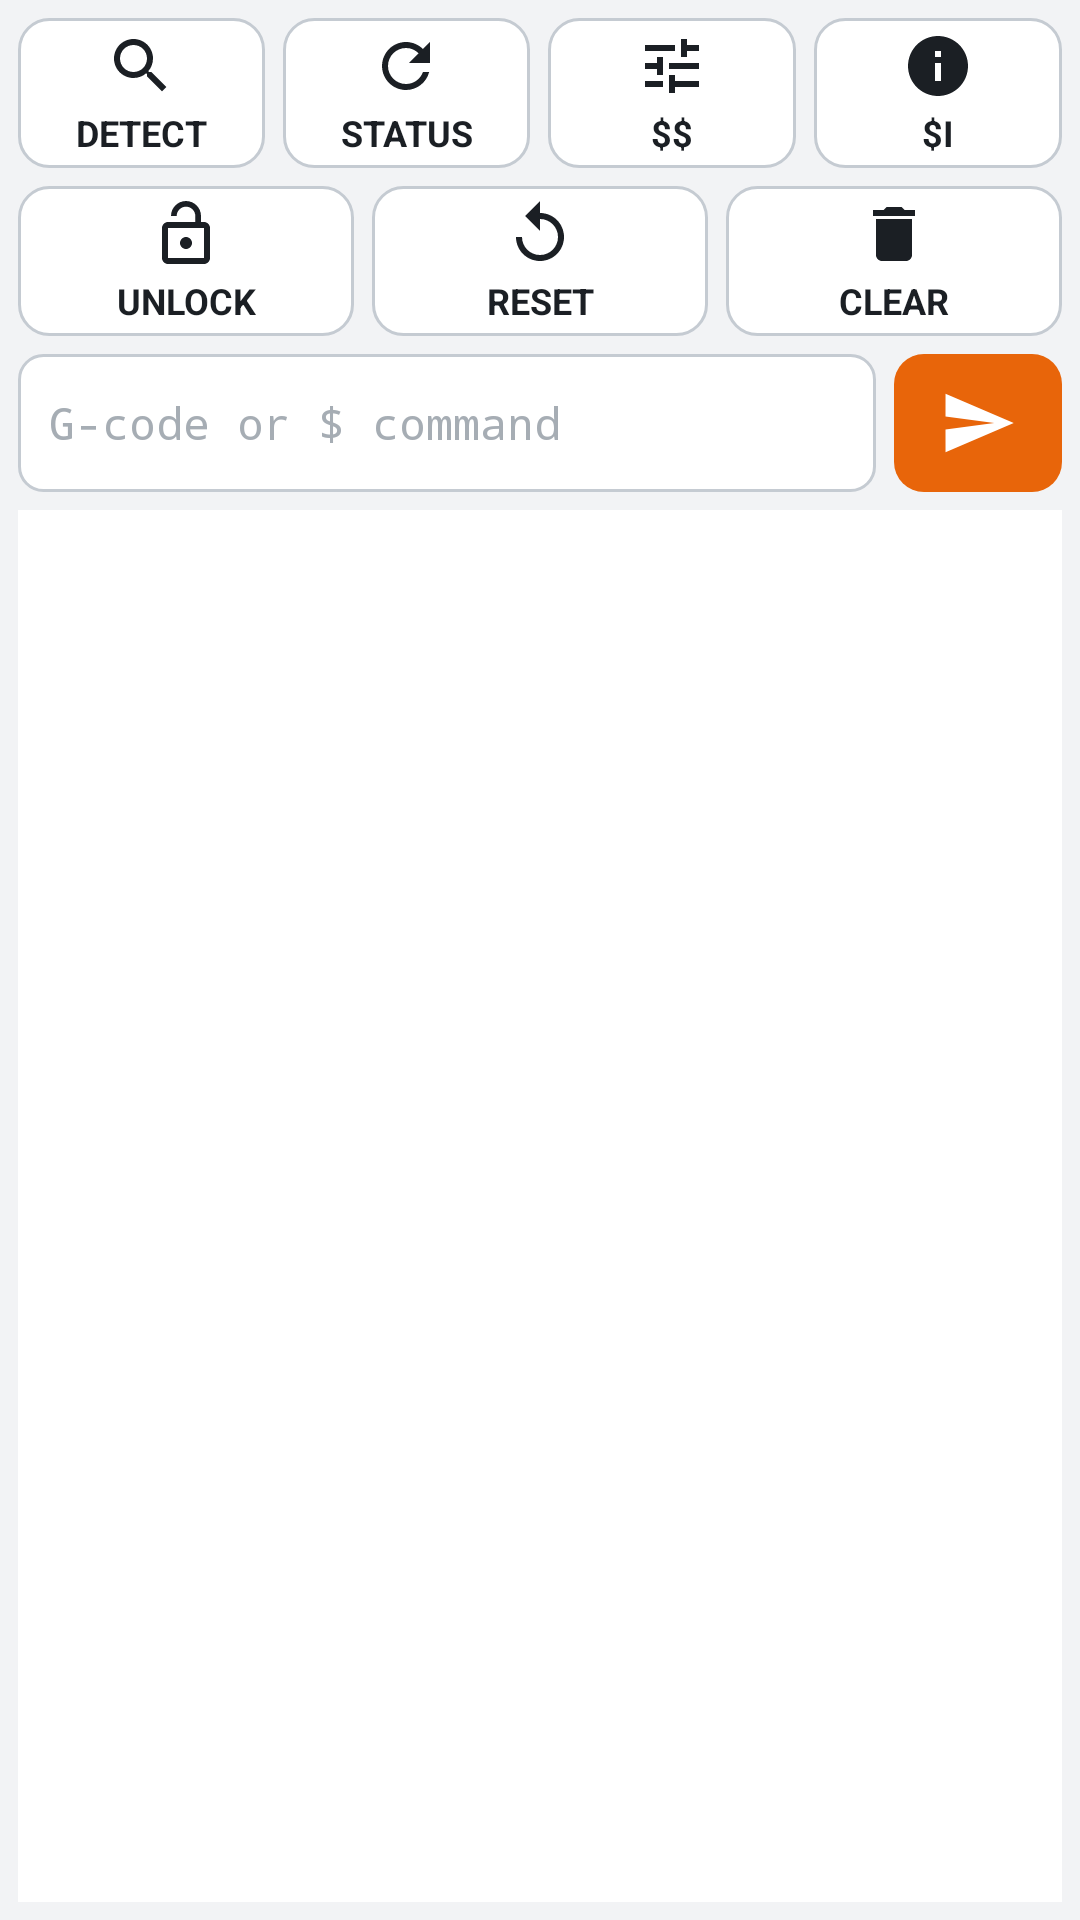

Where to tap for icons on this 1080*1920 app screen, as point (x, y):
Send: point (978, 423)
